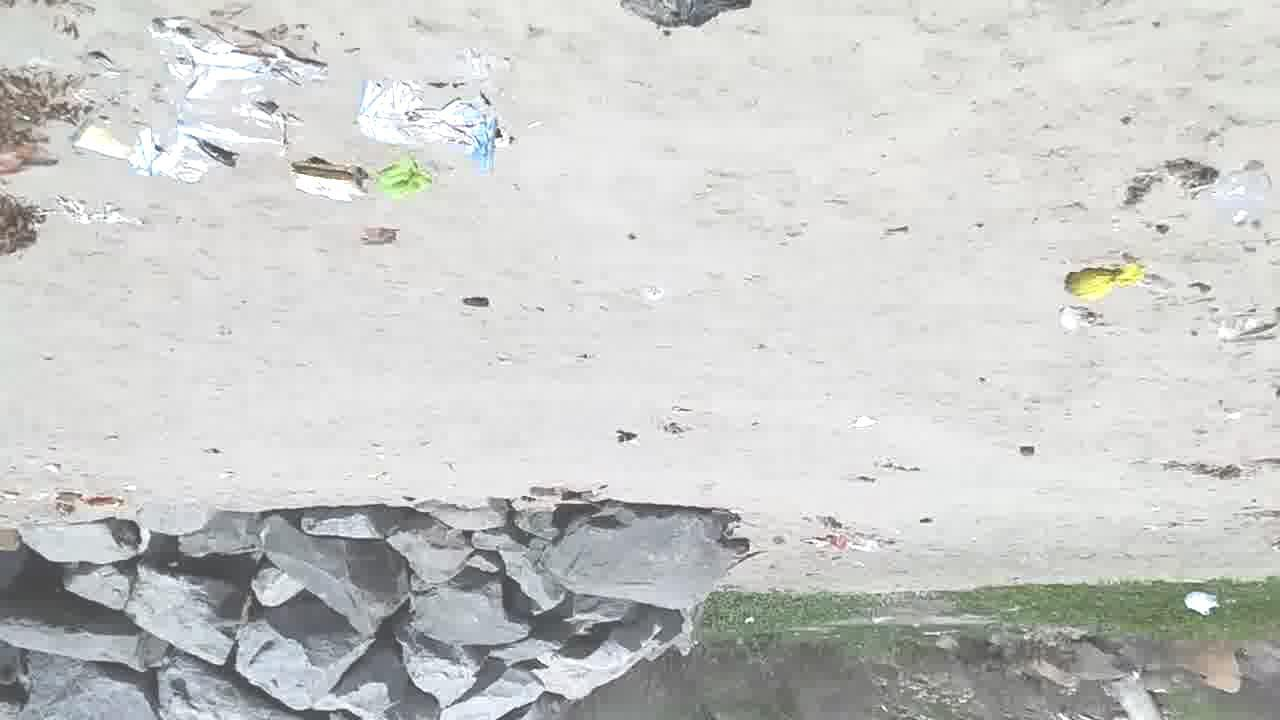obj: (80, 7, 334, 182), (714, 574, 1280, 652), (352, 27, 518, 185), (1, 54, 89, 269), (798, 498, 898, 564), (1120, 151, 1222, 212), (1058, 250, 1153, 312), (1153, 452, 1278, 497), (1212, 145, 1270, 229), (1203, 301, 1279, 363), (613, 1, 755, 33), (292, 157, 369, 207), (376, 150, 440, 201), (1051, 304, 1095, 333), (1184, 591, 1217, 615)
sand/background: (1, 495, 1279, 719)
